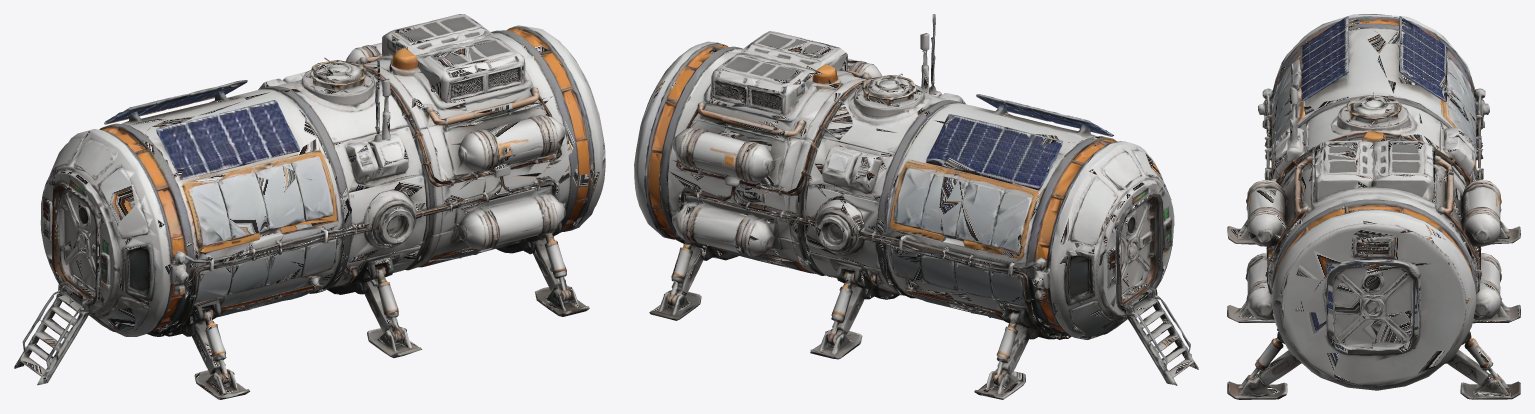
The model's file is rockets.glb.
3 views of the same model, side by side, from view 1: azimuth 30°, elevation 25°; view 2: azimuth 150°, elevation 25°; view 3: azimuth 270°, elevation 25° (orthographic). The views are drawn at different scales.
Parts seen in each view (by area): view 1: tripo_node_c27f7ce7-3a31-4494-8460-4e6aefee4b78; view 2: tripo_node_c27f7ce7-3a31-4494-8460-4e6aefee4b78; view 3: tripo_node_c27f7ce7-3a31-4494-8460-4e6aefee4b78.
Part boxes in pixels (x1,y1,x2,y2): tripo_node_c27f7ce7-3a31-4494-8460-4e6aefee4b78: [14, 14, 605, 399]; tripo_node_c27f7ce7-3a31-4494-8460-4e6aefee4b78: [634, 14, 1198, 399]; tripo_node_c27f7ce7-3a31-4494-8460-4e6aefee4b78: [1227, 14, 1520, 399].
Size of the model in its own units: 0.977 by 0.4792 by 0.4974.
Materials: 1 (1 with a texture image).
